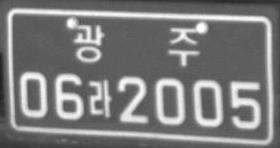0: (192, 78, 223, 127), (154, 77, 185, 125), (19, 71, 47, 118)
2: (117, 76, 148, 123)
5: (229, 79, 261, 130)
6: (53, 72, 85, 120)
광주_D: (72, 24, 200, 67)
라: (88, 79, 112, 118)
